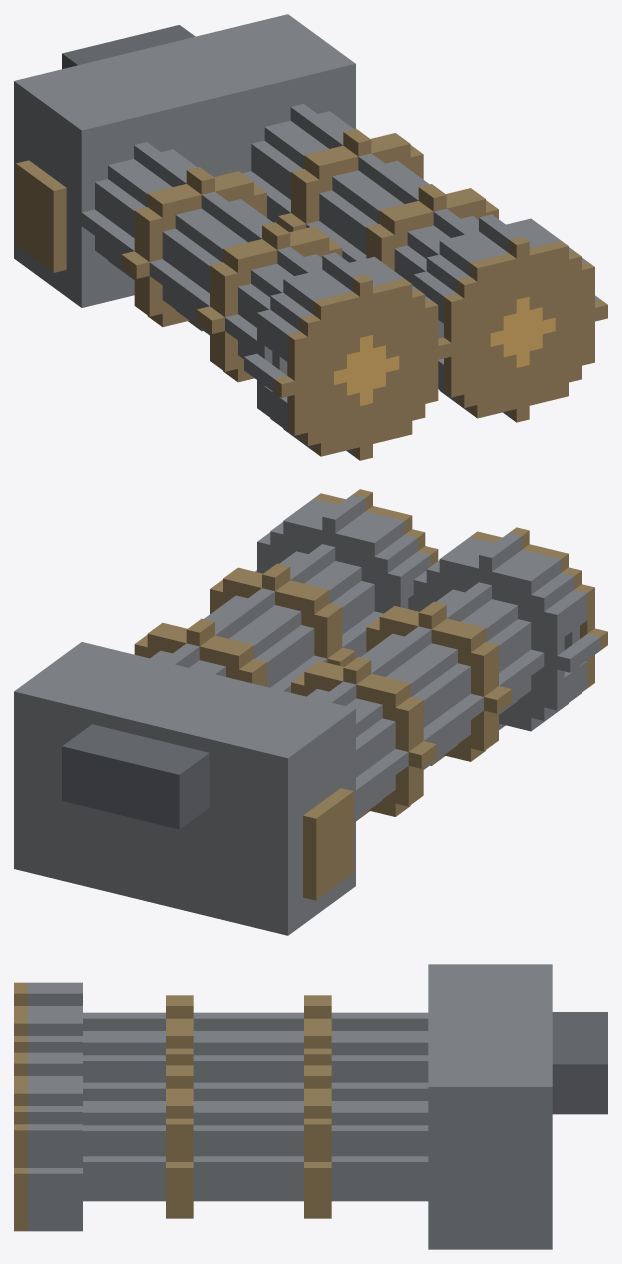
File: sgun_l.glb
The picture shows the model from 3 angles, top to bottom: view 1: azimuth 30°, elevation 25°; view 2: azimuth 150°, elevation 25°; view 3: azimuth 270°, elevation 25°; orthographic projection. The views are drawn at different scales.
Size of the model in its own units: 25 by 13 by 43.
